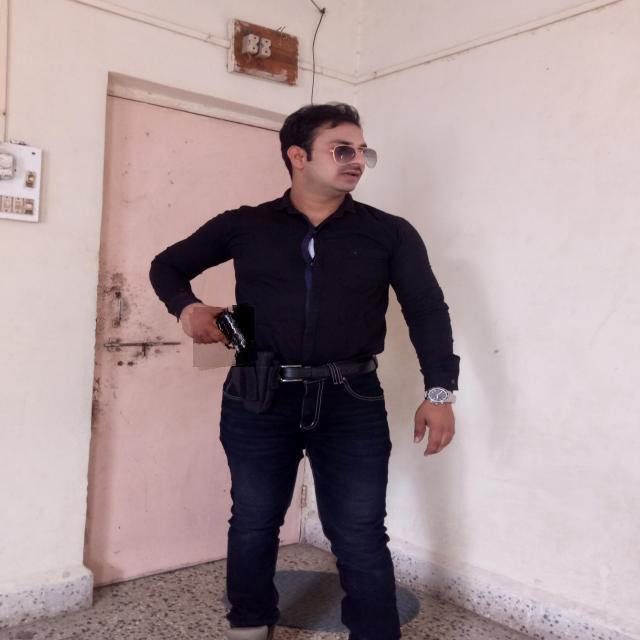handgun: (191, 305, 256, 370)
